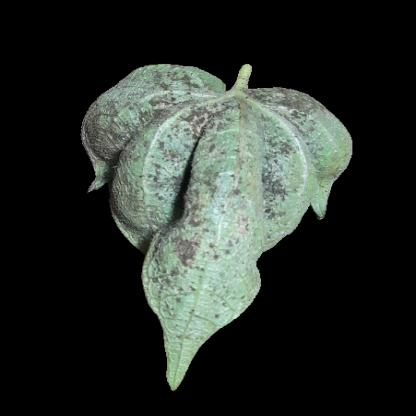curl_stage2: (165, 287, 215, 353)
sooty: (252, 89, 322, 215), (110, 98, 209, 186), (154, 215, 224, 272)
